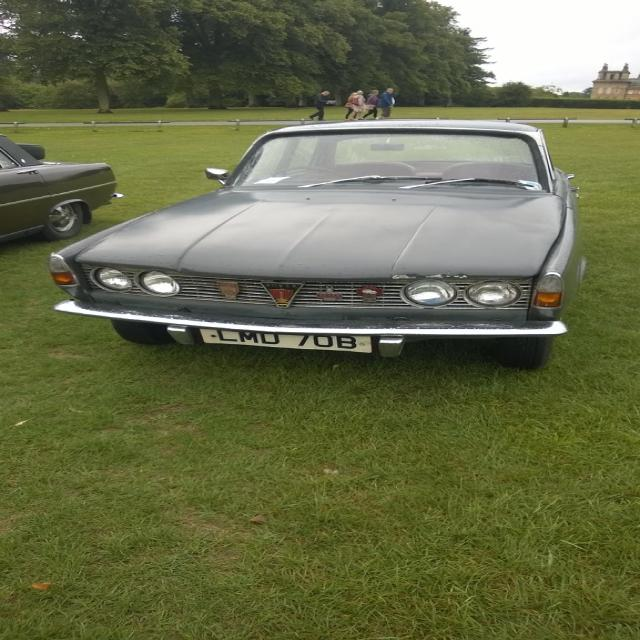car: (42, 115, 595, 367)
